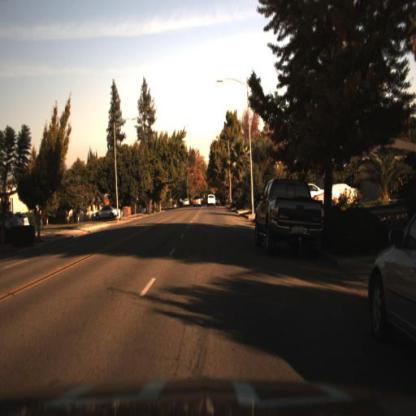car: (368, 213, 416, 361), (251, 177, 330, 251), (96, 205, 119, 222), (208, 191, 219, 207), (183, 195, 192, 211)
